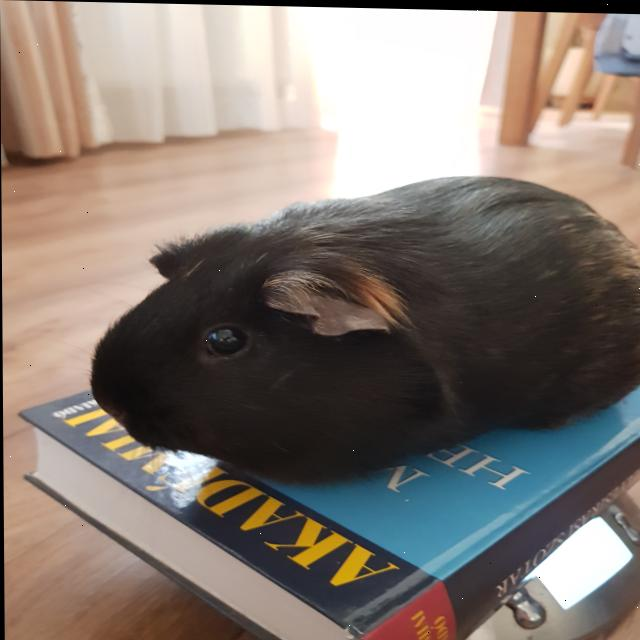guinea pig: (83, 165, 640, 493)
